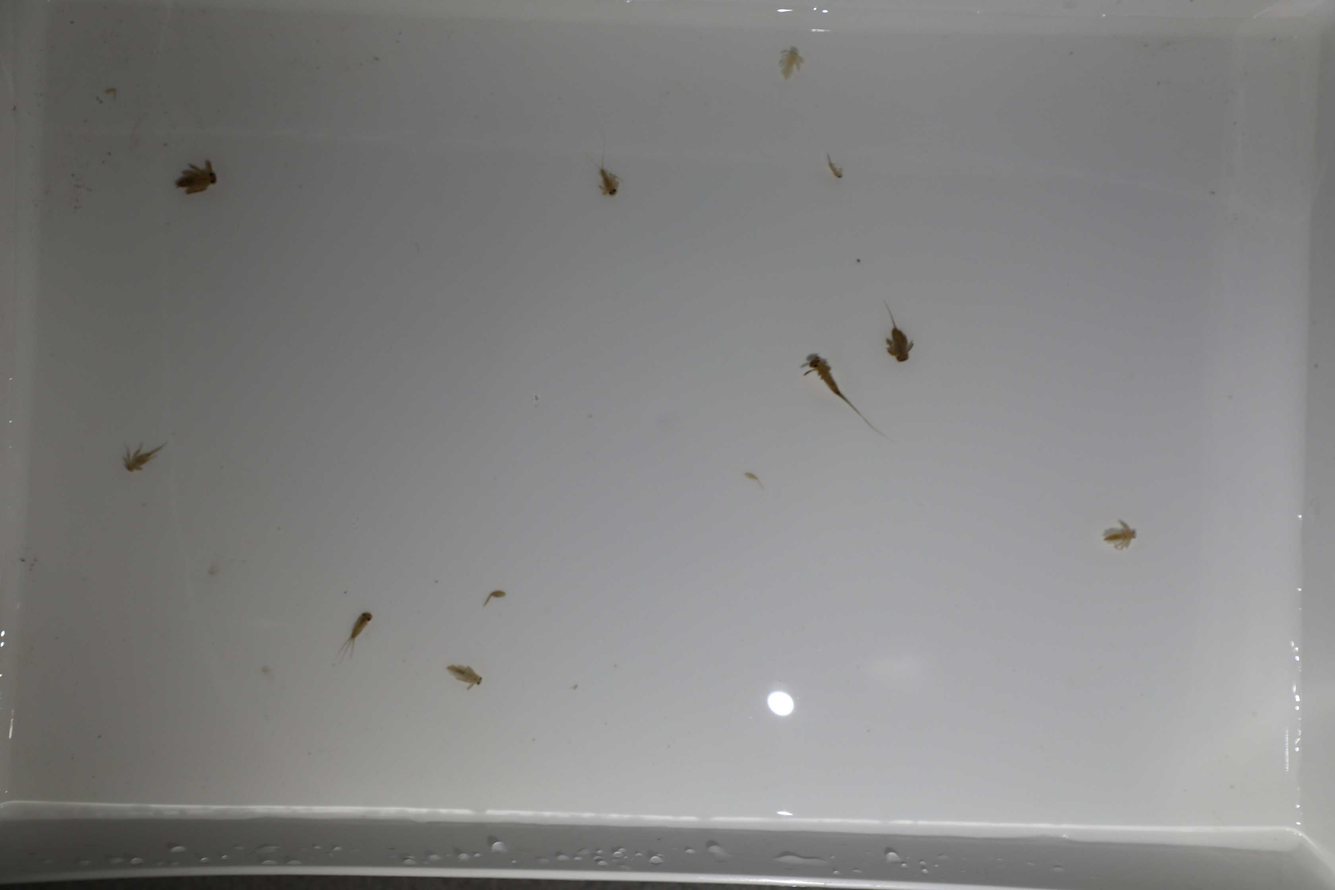Mayfly: (793, 348, 885, 431), (332, 608, 375, 675), (875, 299, 918, 362), (172, 152, 221, 200), (1093, 510, 1141, 556), (583, 150, 623, 203), (124, 441, 175, 477), (441, 659, 485, 694), (776, 45, 801, 81)
